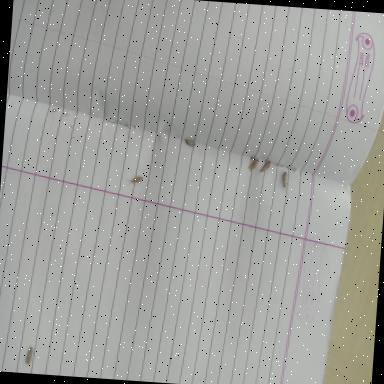pbw: (259, 160, 271, 176), (25, 346, 34, 366), (125, 176, 142, 186), (248, 158, 258, 172), (282, 172, 288, 188), (186, 140, 196, 146)
